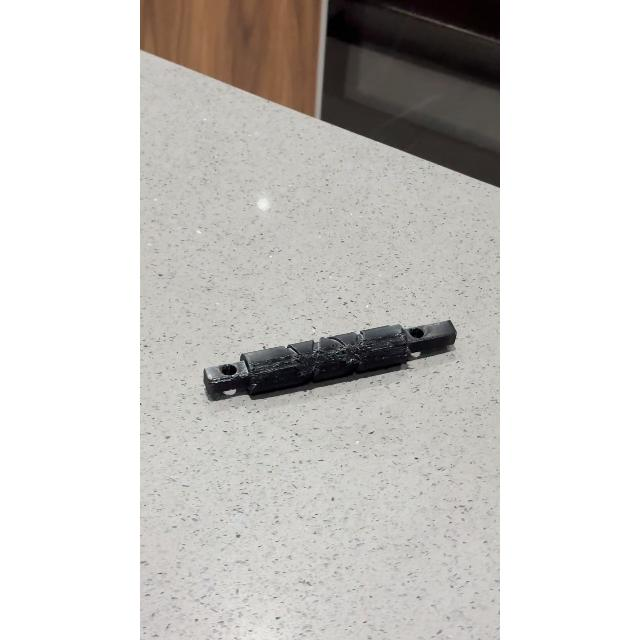Pieza_1: (199, 310, 467, 410)
